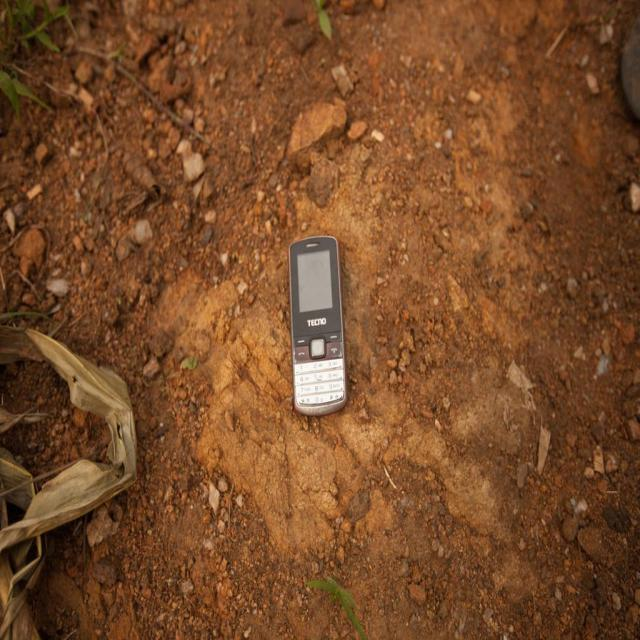Phone: (288, 223, 348, 418)
